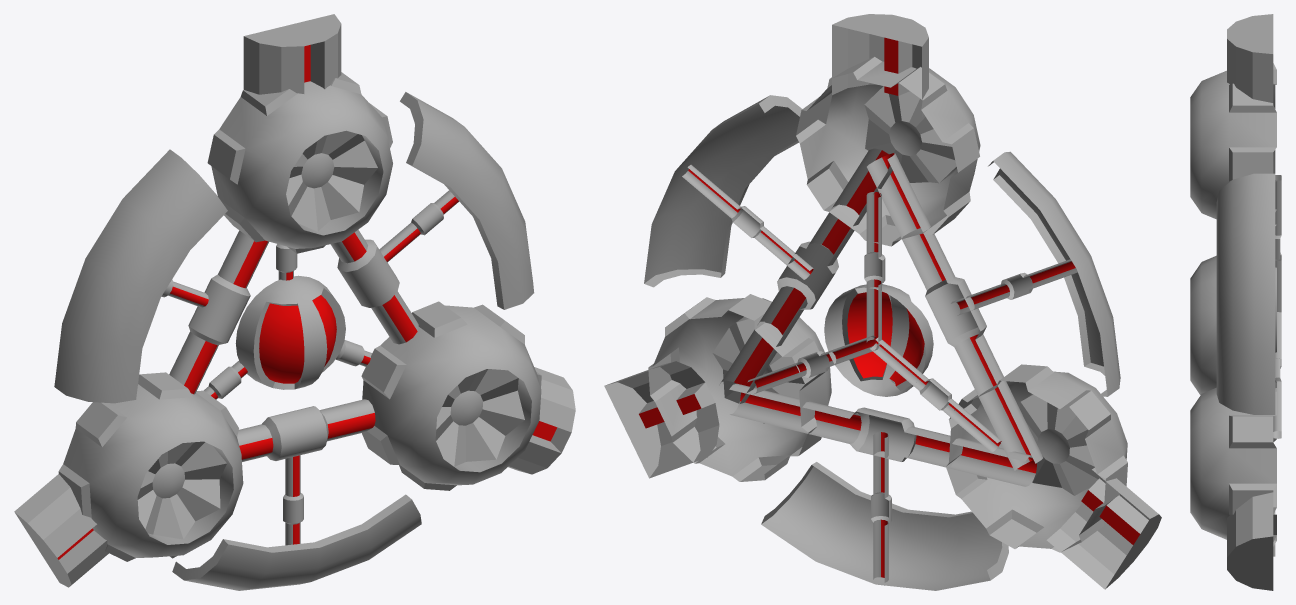
The model's file is SM_Boss03.fbx.
The picture shows the model from 3 angles, left to right: view 1: azimuth 30°, elevation 25°; view 2: azimuth 150°, elevation 25°; view 3: azimuth 270°, elevation 25°; orthographic projection. The views are drawn at different scales.
Visible parts, largest first — view 1: pCylinder21; view 2: pCylinder21; view 3: pCylinder21.
Boxes of the visible parts, box(x1,y1,x2,y2) form: pCylinder21: box(14, 14, 575, 590); pCylinder21: box(604, 14, 1161, 590); pCylinder21: box(1190, 14, 1281, 590).
Bounding box in the file's own units: 725 × 698 × 115.
